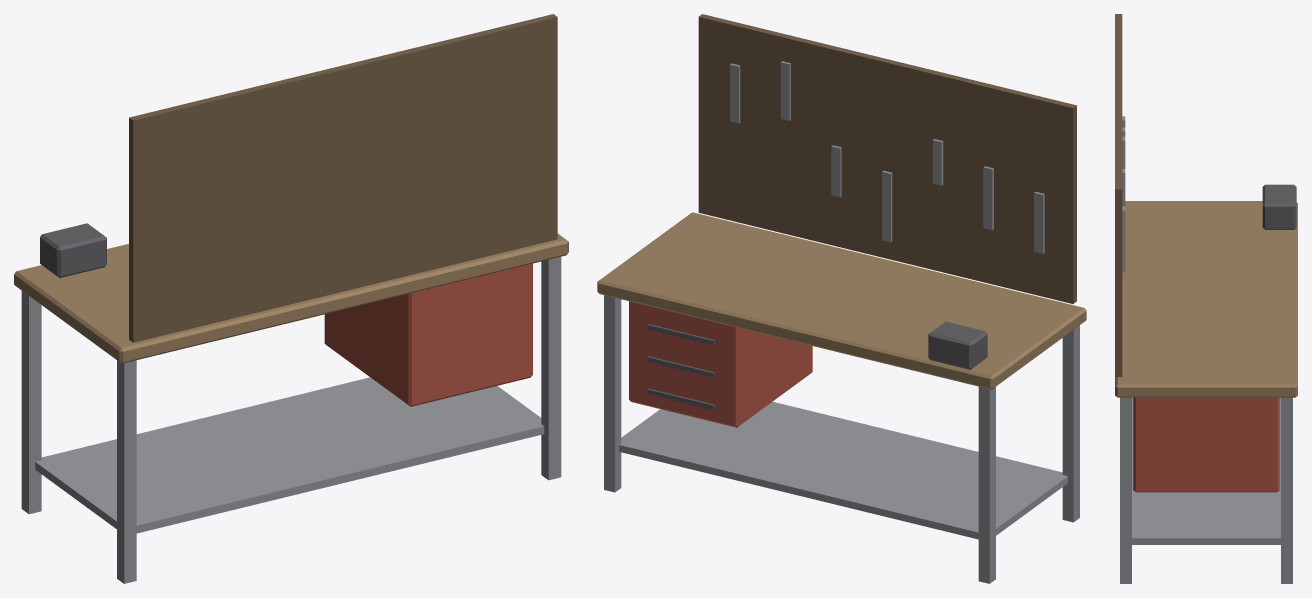
File: v_workbench.glb
3 views of the same model, side by side, from view 1: azimuth 30°, elevation 25°; view 2: azimuth 150°, elevation 25°; view 3: azimuth 270°, elevation 25° (orthographic). The views are drawn at different scales.
Visible parts, largest first — view 1: Workbench; view 2: Workbench; view 3: Workbench.
Boxes of the visible parts, x1=… form: Workbench: x1=14, y1=14, x2=568, y2=583; Workbench: x1=597, y1=14, x2=1086, y2=583; Workbench: x1=1115, y1=14, x2=1297, y2=583.
Size of what is drawn, in the model's own units: 1.8 by 1.78 by 0.75.
